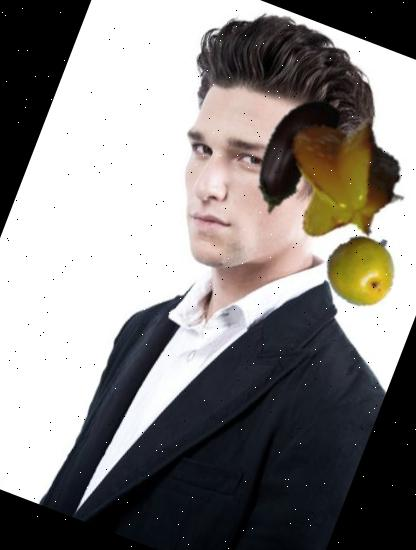Carambula: (258, 93, 416, 266)
Eggplant: (208, 68, 376, 237)
Maracuja: (314, 224, 406, 316)
